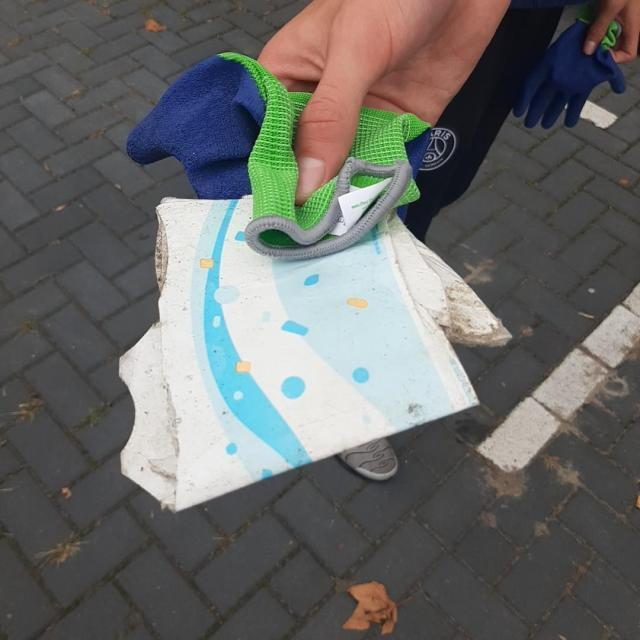Paper: (116, 189, 516, 518), (564, 98, 618, 130)
